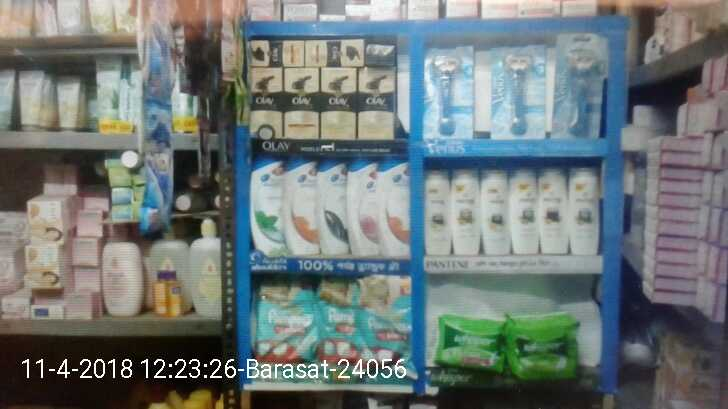venus: (555, 32, 605, 136), (425, 45, 472, 138), (494, 48, 543, 134)
